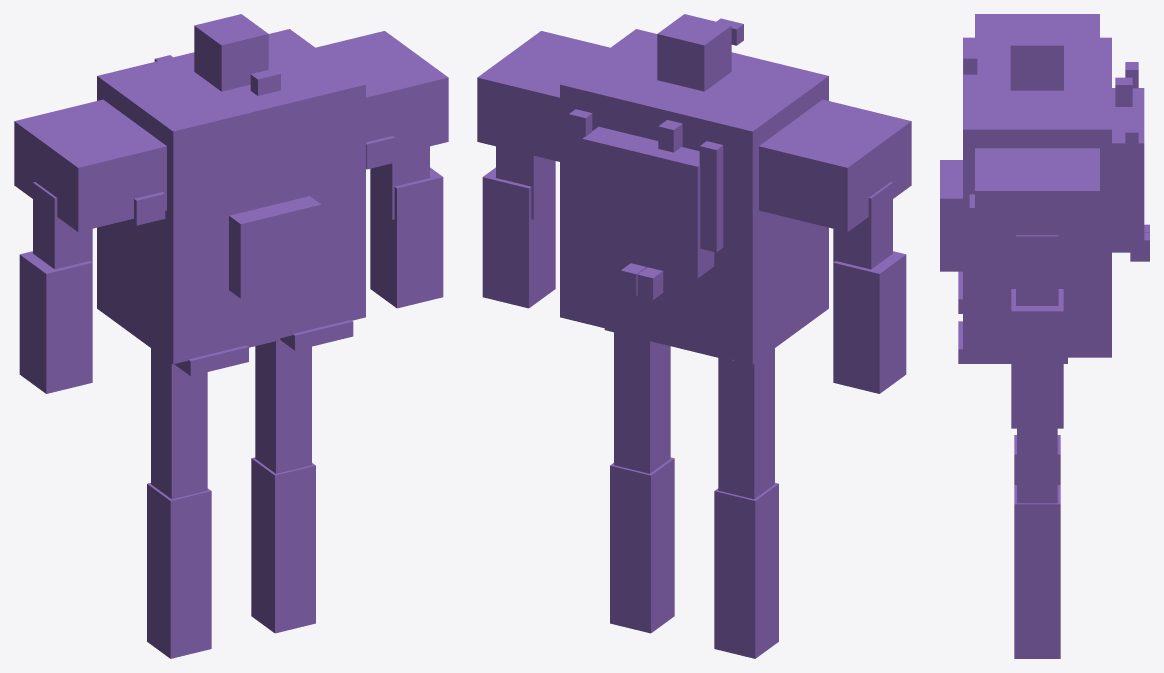
The model's file is mechfall_atlas.obj.
The picture shows the model from 3 angles, left to right: view 1: azimuth 30°, elevation 25°; view 2: azimuth 150°, elevation 25°; view 3: azimuth 270°, elevation 25°; orthographic projection. The views are drawn at different scales.
Visible parts, largest first — view 1: mechfall_atlas; view 2: mechfall_atlas; view 3: mechfall_atlas.
Boxes of the visible parts, x1,y1,x2,y2 form: mechfall_atlas: (14,14,448,658); mechfall_atlas: (477,14,911,658); mechfall_atlas: (940,14,1149,658).
Size of the model in its own units: 6.66 by 9.66 by 3.12.
